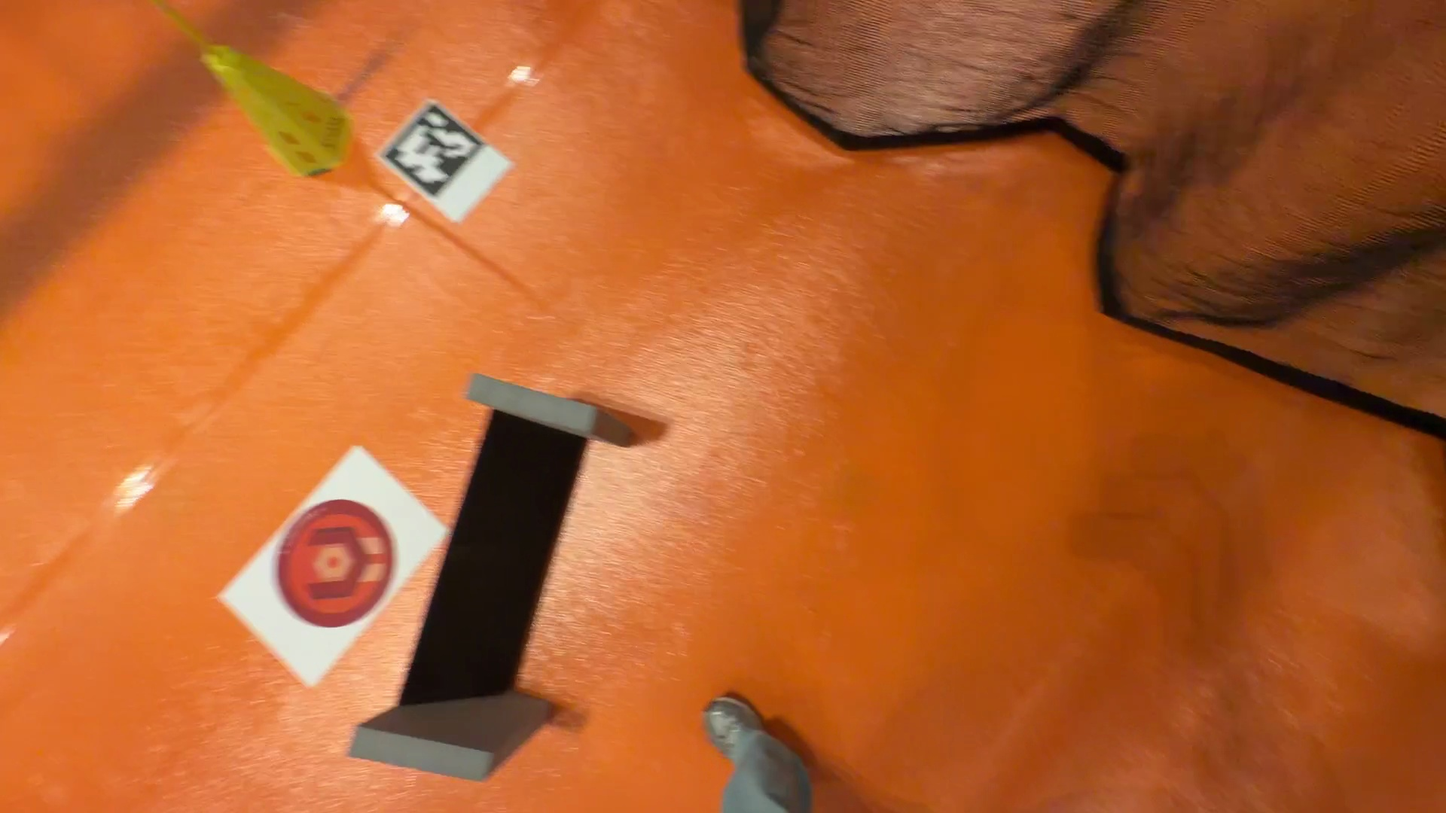landing_pad: (273, 490, 401, 629)
